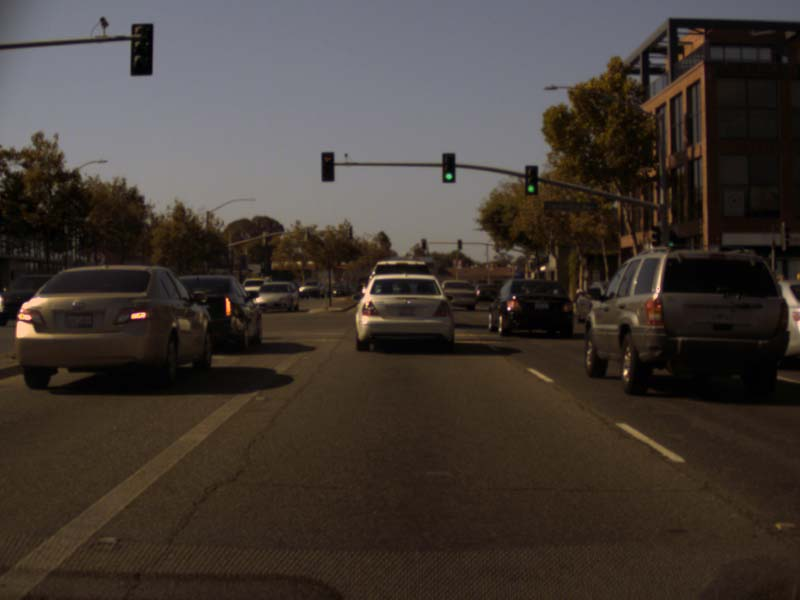Green: (524, 165, 538, 195), (442, 153, 456, 183), (668, 229, 676, 248)
Red: (321, 152, 334, 182)
